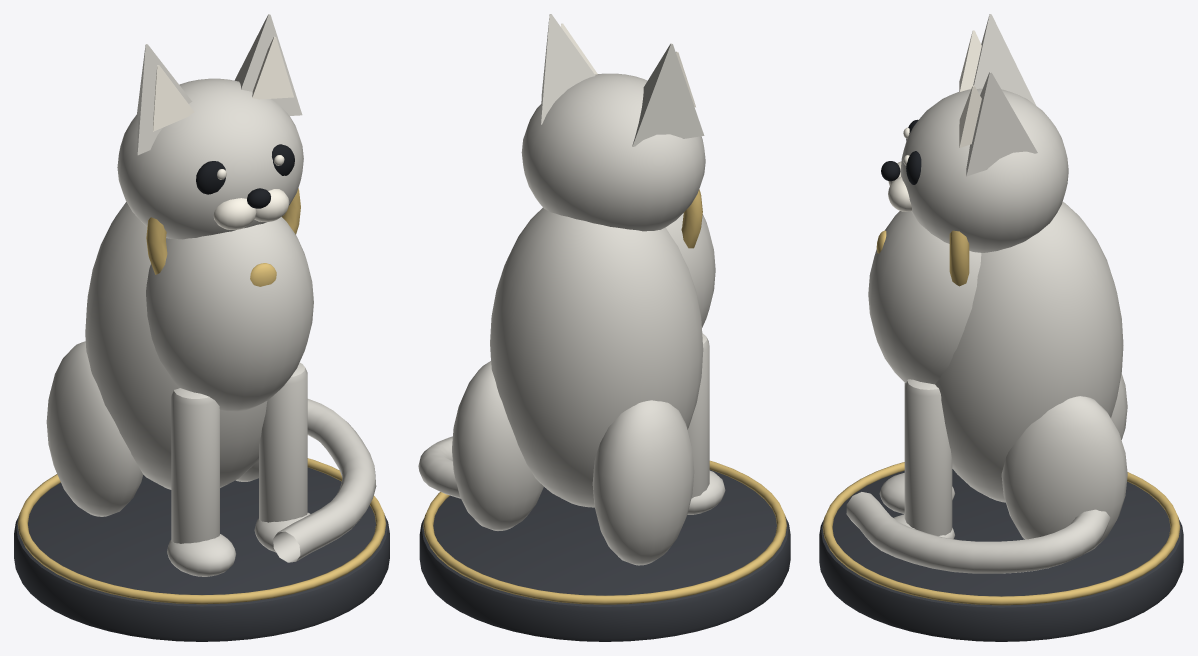
Rendered from cat.glb.
The picture shows the model from 3 angles, left to right: view 1: azimuth 30°, elevation 25°; view 2: azimuth 150°, elevation 25°; view 3: azimuth 270°, elevation 25°; orthographic projection. The views are drawn at different scales.
Parts seen in each view (by area): view 1: TOKEN_BODY, TOKEN_BASE, TOKEN_DETAILS; view 2: TOKEN_BODY, TOKEN_BASE, TOKEN_DETAILS; view 3: TOKEN_BODY, TOKEN_BASE, TOKEN_DETAILS.
Part boxes in pixels (<box>): TOKEN_BODY: <box>46,14,376,576</box>; TOKEN_BASE: <box>14,467,389,641</box>; TOKEN_DETAILS: <box>17,36,386,604</box>; TOKEN_BODY: <box>418,14,725,565</box>; TOKEN_BASE: <box>419,469,790,641</box>; TOKEN_DETAILS: <box>423,23,786,604</box>; TOKEN_BODY: <box>846,14,1127,573</box>; TOKEN_BASE: <box>819,469,1183,641</box>; TOKEN_DETAILS: <box>822,30,1180,605</box>.
Size of the model in its own units: 0.26 by 0.4126 by 0.26.
